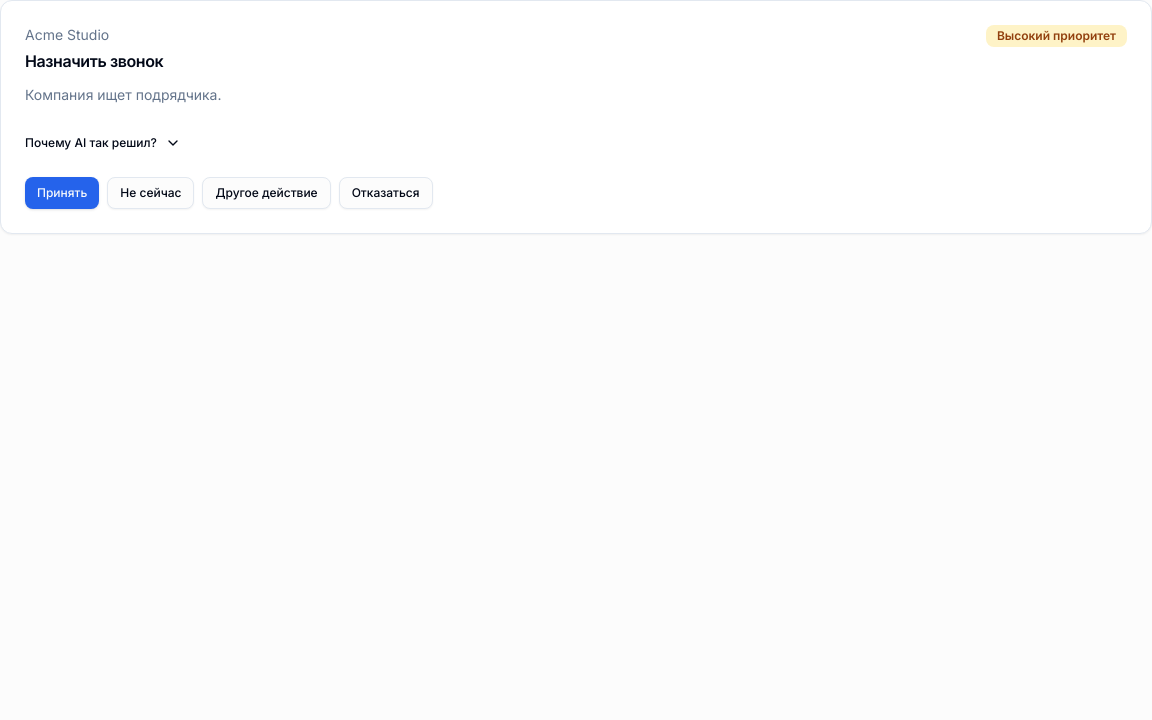
NeedsDecisionCard › exposes Modify and OTHER comment fields by accessible name
This screenshot has width=1152, height=720.
What coordinates should you click on to do the following:
click the button "Другое действие"
I would click on:
 (267, 193)
Its box is top-left (202, 177), bottom-right (331, 209).
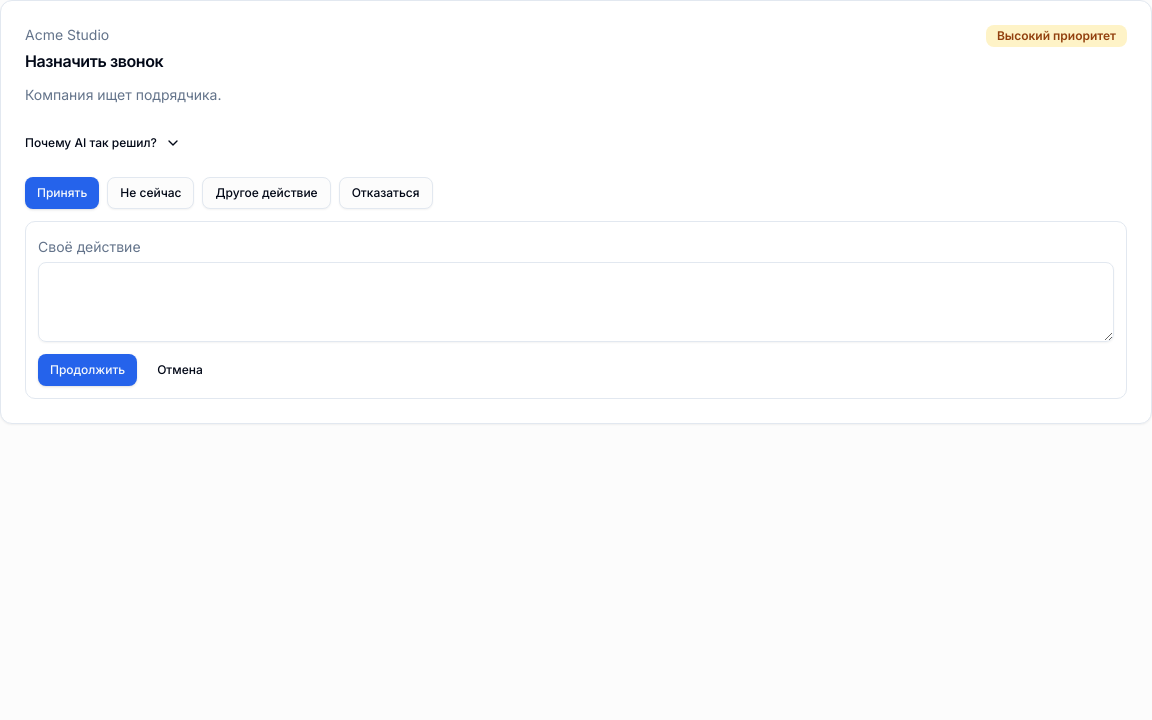
Expected: the text box labelled "Своё действие" is shown, top-left (38, 262), bottom-right (1114, 342)
What coordinates should you click on to do the following:
click the button "Отказаться"
I would click on:
 (386, 193)
Its box is top-left (339, 177), bottom-right (433, 209).
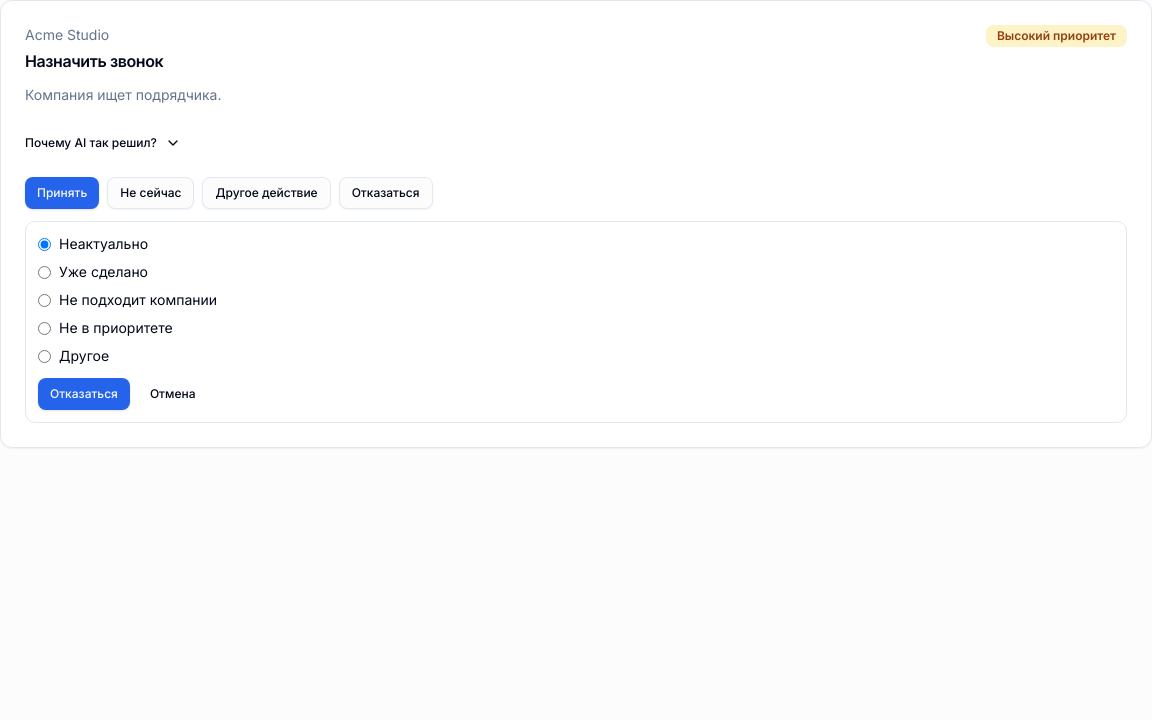
What coordinates should you click on to do the following:
click the radio button labelled "Другое"
I would click on:
 (44, 356)
Its box is top-left (38, 350), bottom-right (51, 362).
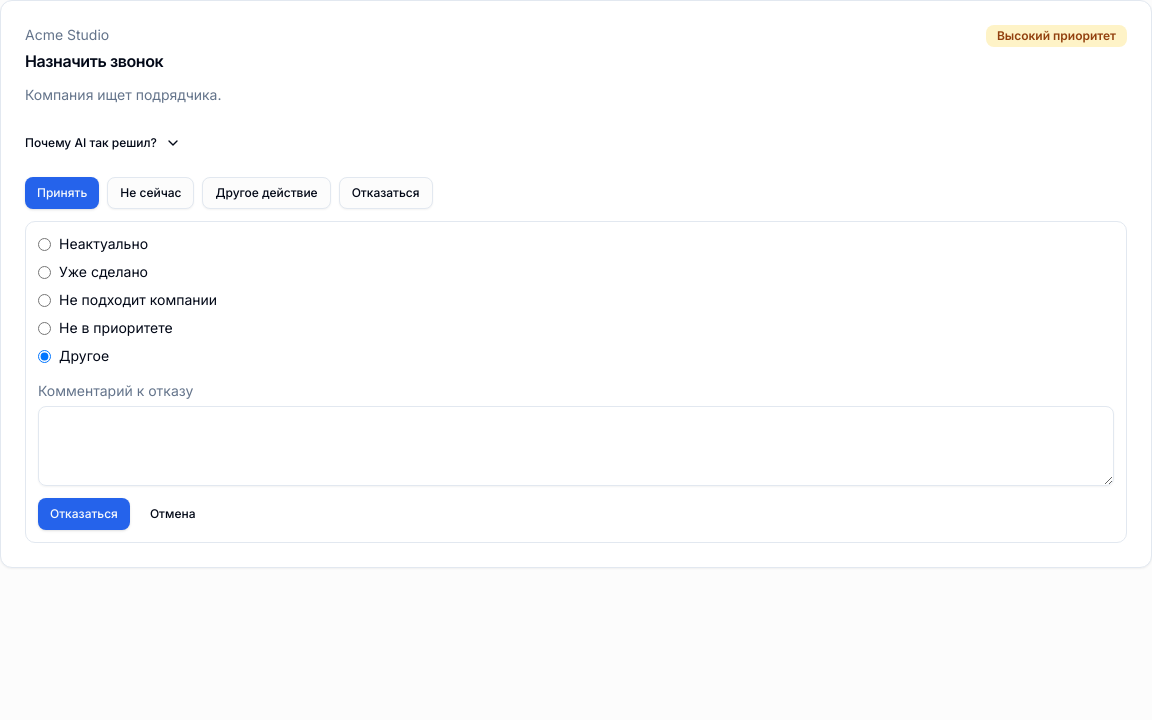
Expected: the text box labelled "Комментарий к отказу" is shown, top-left (38, 406), bottom-right (1114, 486)
